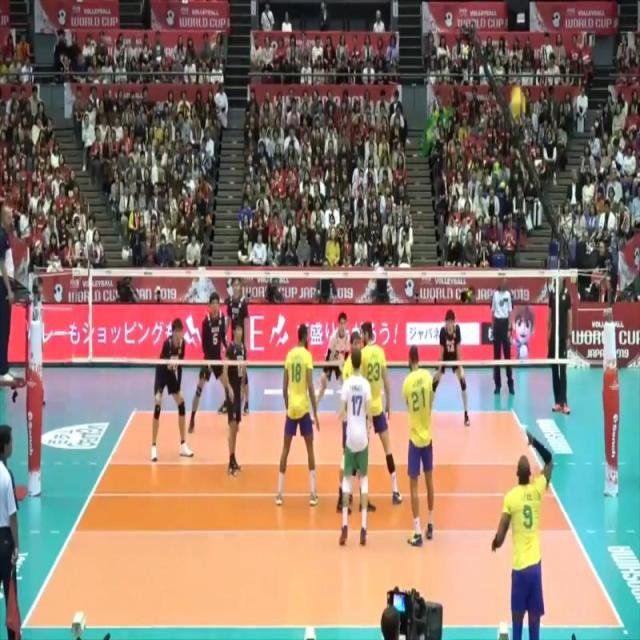volleyball: (509, 88, 528, 121)
